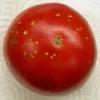tomato bacterial spot: (4, 3, 98, 98)
